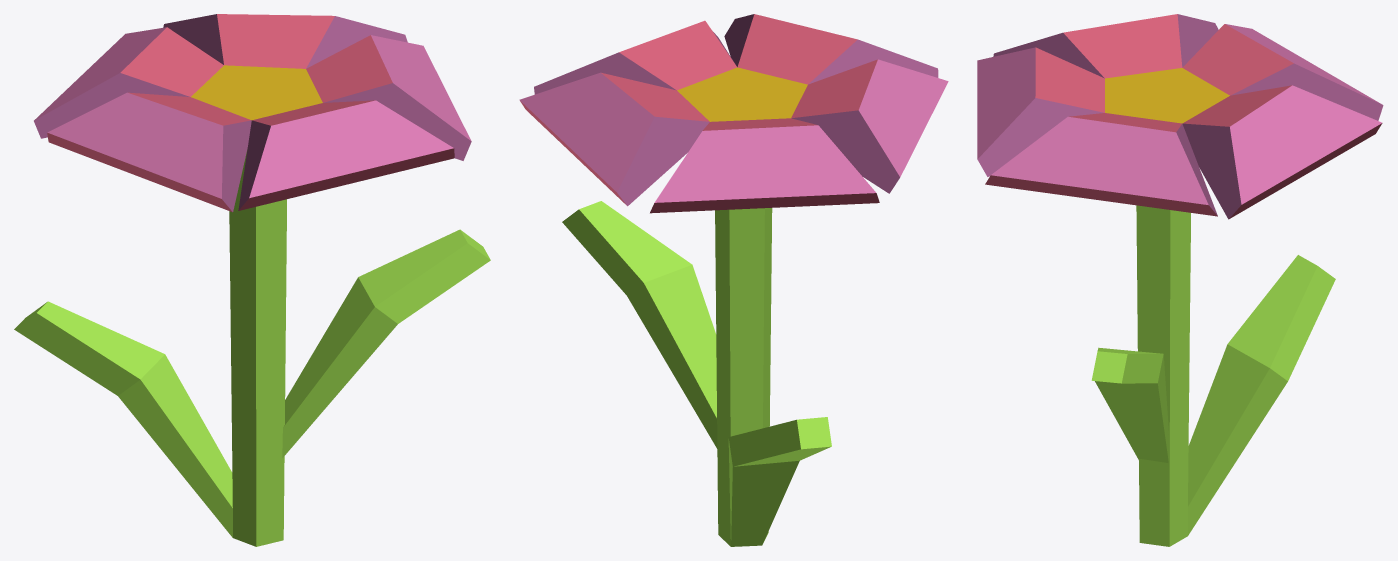
File: flower_rose.fbx
The picture shows the model from 3 angles, left to right: view 1: azimuth 30°, elevation 25°; view 2: azimuth 150°, elevation 25°; view 3: azimuth 270°, elevation 25°; orthographic projection.
Visible parts, largest first — view 1: flower_rose_LOW; view 2: flower_rose_LOW; view 3: flower_rose_LOW.
Part boxes in pixels (bbox=[...]): flower_rose_LOW: bbox=[14, 14, 490, 546]; flower_rose_LOW: bbox=[519, 14, 948, 546]; flower_rose_LOW: bbox=[977, 14, 1383, 546].
Bounding box in the file's own units: 26.58 × 30.62 × 24.28.
